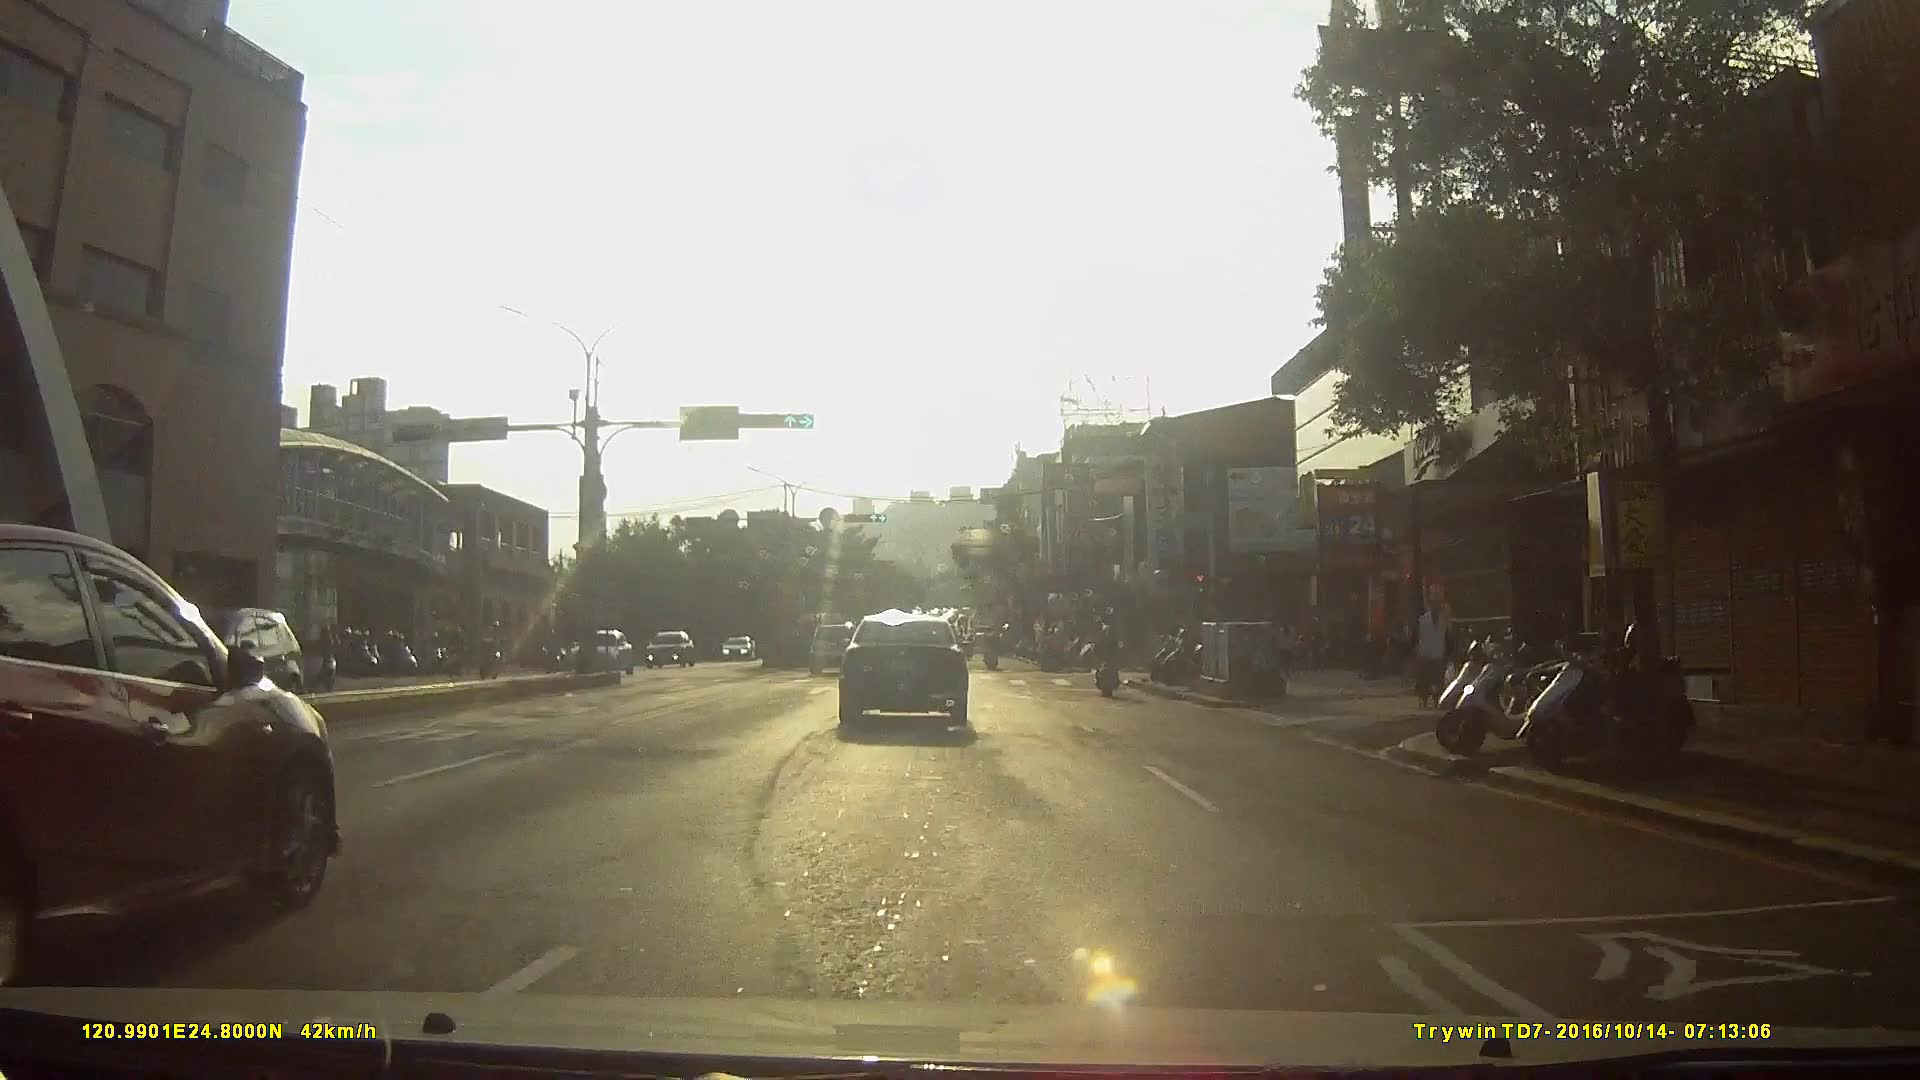pedestrian: (1405, 594, 1454, 716)
rider: (1092, 620, 1122, 696), (306, 627, 341, 691), (377, 631, 424, 679), (1037, 628, 1071, 674), (983, 627, 1003, 671)
vehicle: (1, 524, 352, 991), (836, 610, 985, 735), (150, 601, 309, 706), (570, 630, 640, 680), (807, 626, 866, 681), (647, 630, 699, 672), (718, 636, 760, 666)
